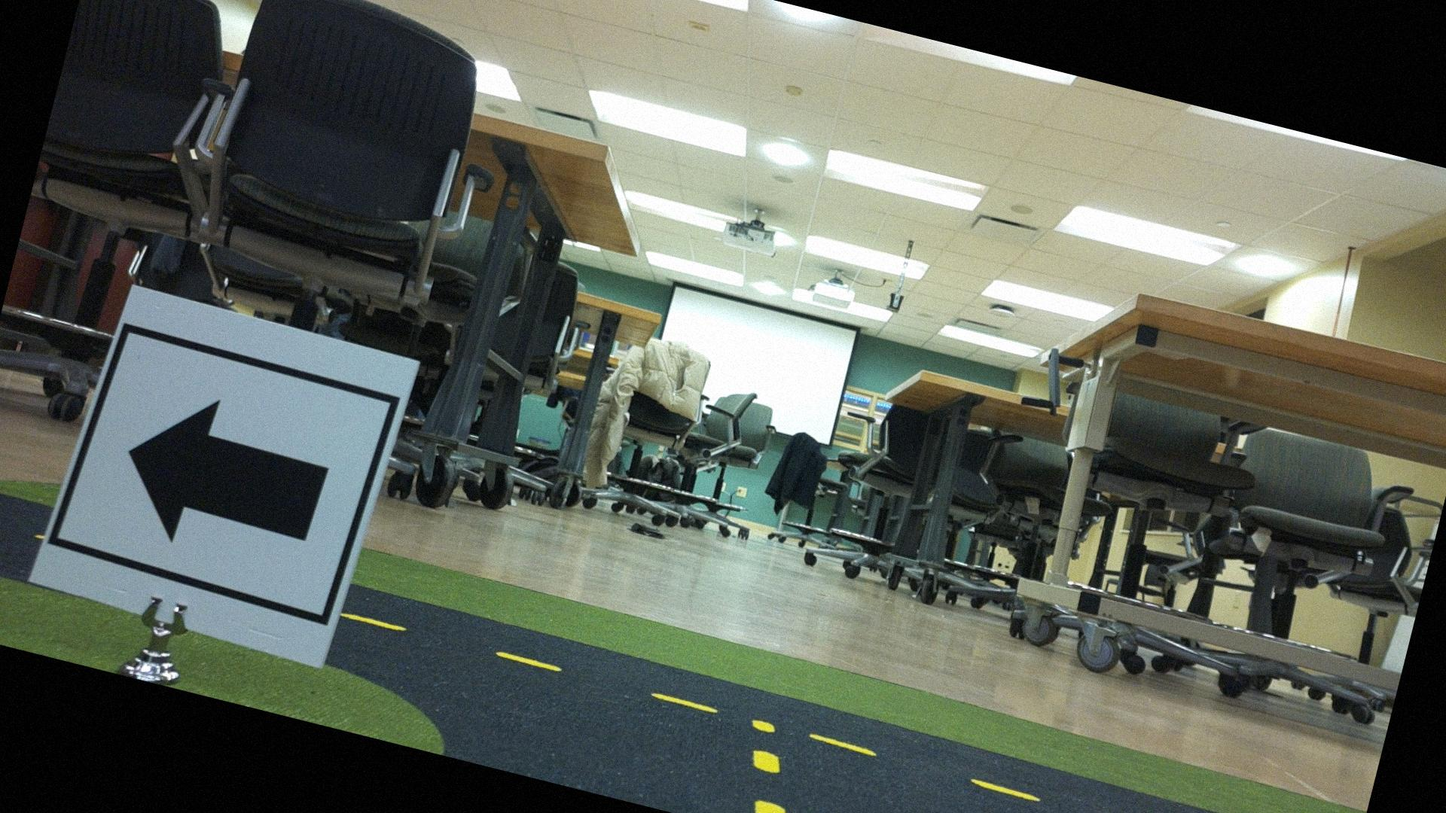turnleft: (54, 294, 403, 661)
yellowline: (338, 607, 1354, 812), (725, 714, 816, 812)
